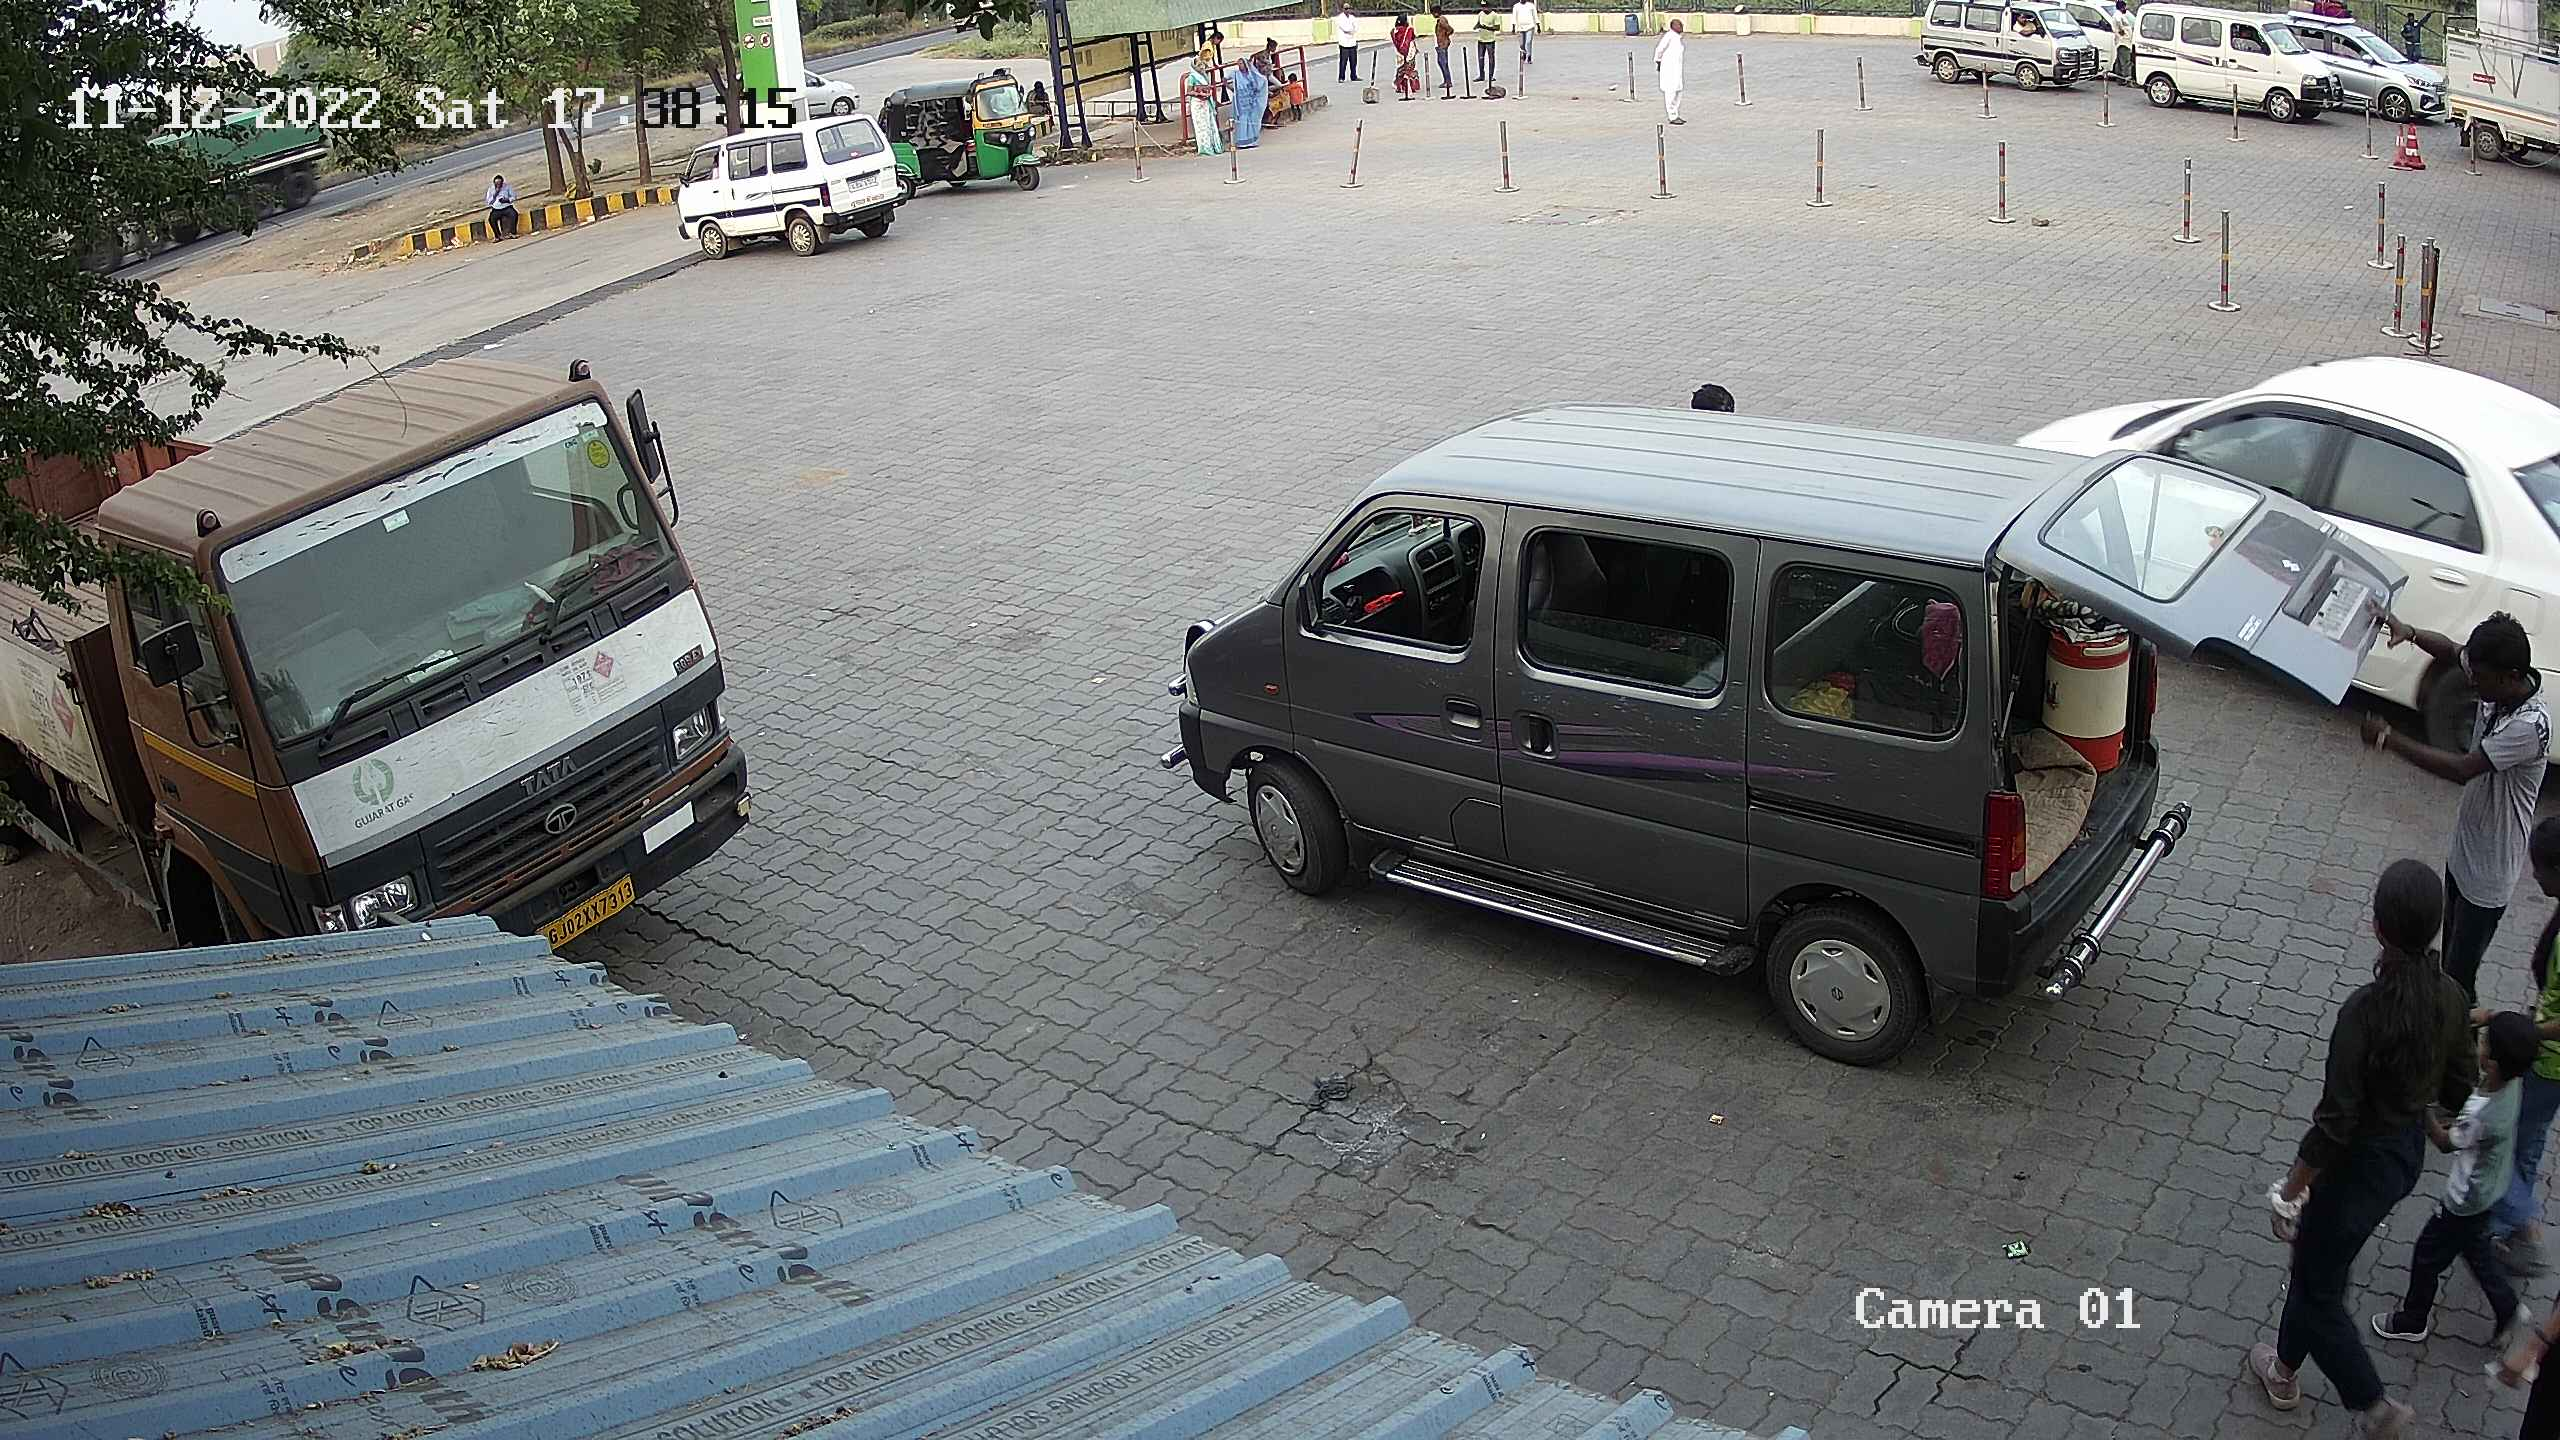Auto: (870, 60, 1060, 199)
Car: (1145, 383, 2412, 1080), (2003, 343, 2556, 782), (675, 97, 920, 264), (2126, 0, 2347, 128), (2426, 0, 2558, 179), (2275, 5, 2456, 128), (1908, 2, 2113, 97), (2048, 0, 2145, 97), (796, 56, 874, 125)
HMV: (0, 339, 760, 971), (19, 81, 346, 280)
